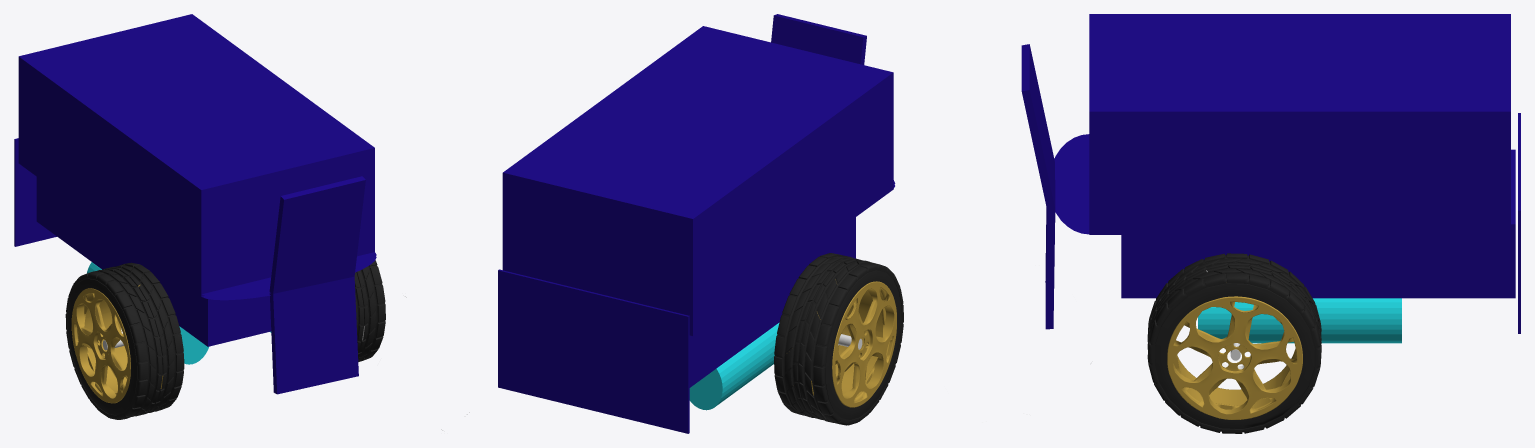
File: VehicleCorected.glb
The picture shows the model from 3 angles, left to right: view 1: azimuth 30°, elevation 25°; view 2: azimuth 150°, elevation 25°; view 3: azimuth 270°, elevation 25°; orthographic projection. The views are drawn at different scales.
Parts seen in each view (by area): view 1: Cube; view 2: Cube; view 3: Cube.
Boxes of the visible parts, x1,y1,x2,y2 form: Cube: (14, 14, 469, 430); Cube: (498, 14, 903, 433); Cube: (982, 14, 1520, 433).
Bounding box in the file's own units: 0.1226 × 0.1228 × 0.2165.
